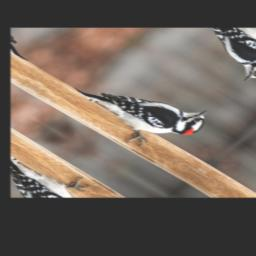Woodpecker: (57, 56, 217, 162)
